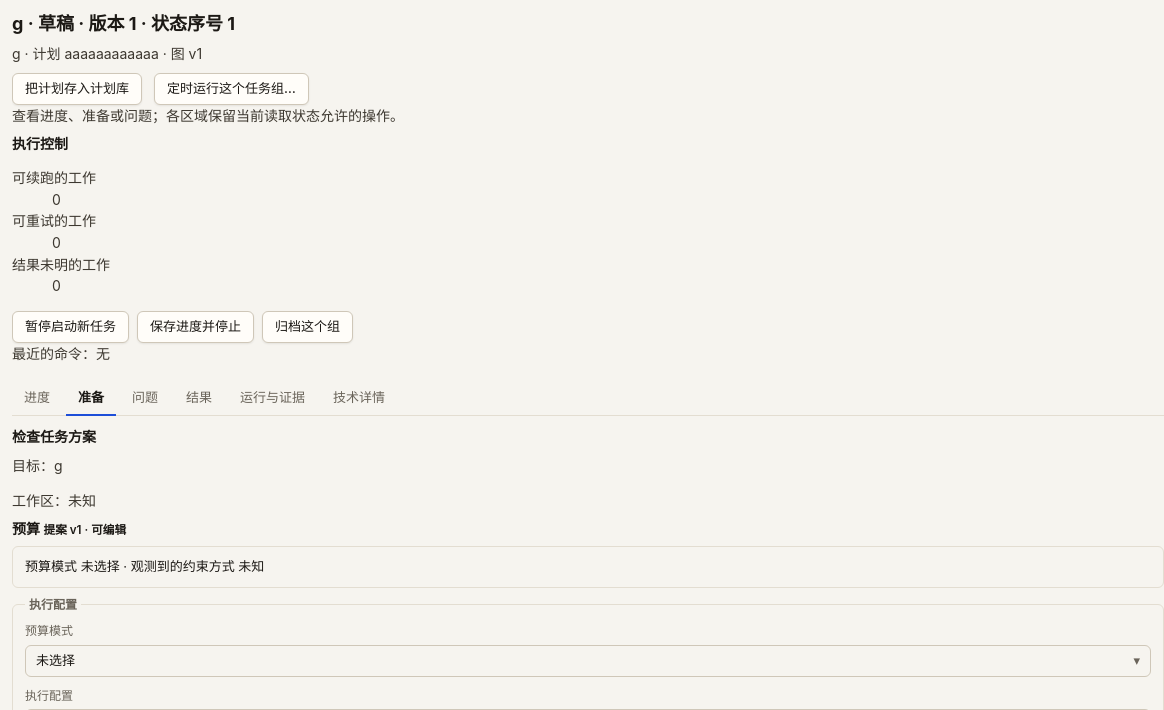
an estimate's repairs and automatic retry (spec §4.4) › shows them in Chinese
The width and height of the screenshot is (1164, 710).
Click the tab "技术详情": {"x": 359, "y": 399} [321,381,397,416]
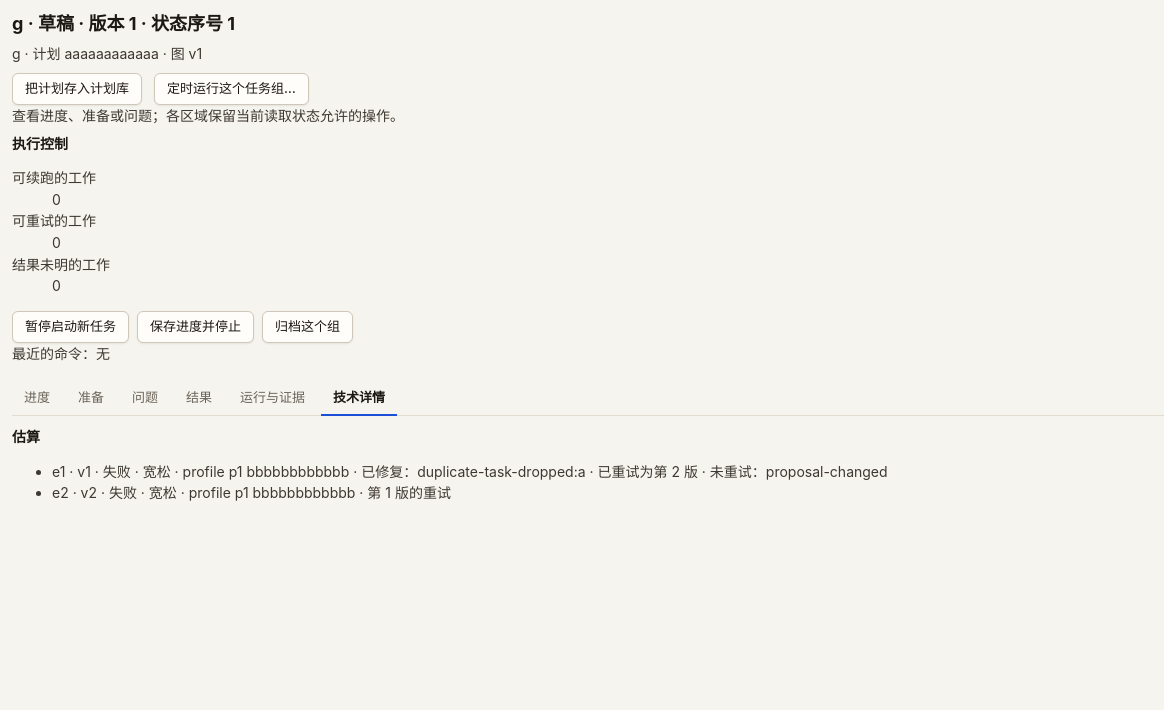
Expected: the text "已修复" is shown, [349,462,586,480]
Expected: the text "duplicate-task-dropped:a" is shown, [349,462,586,480]
Expected: the text "已重试为第 2 版" is shown, [586,462,698,480]
